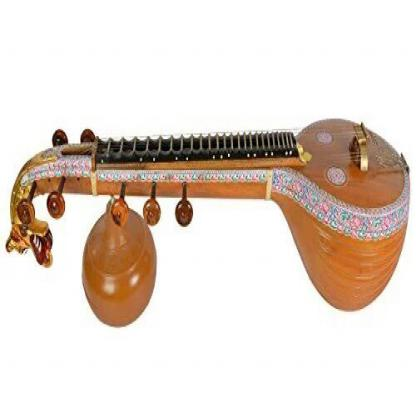Veena: (1, 109, 416, 225)
